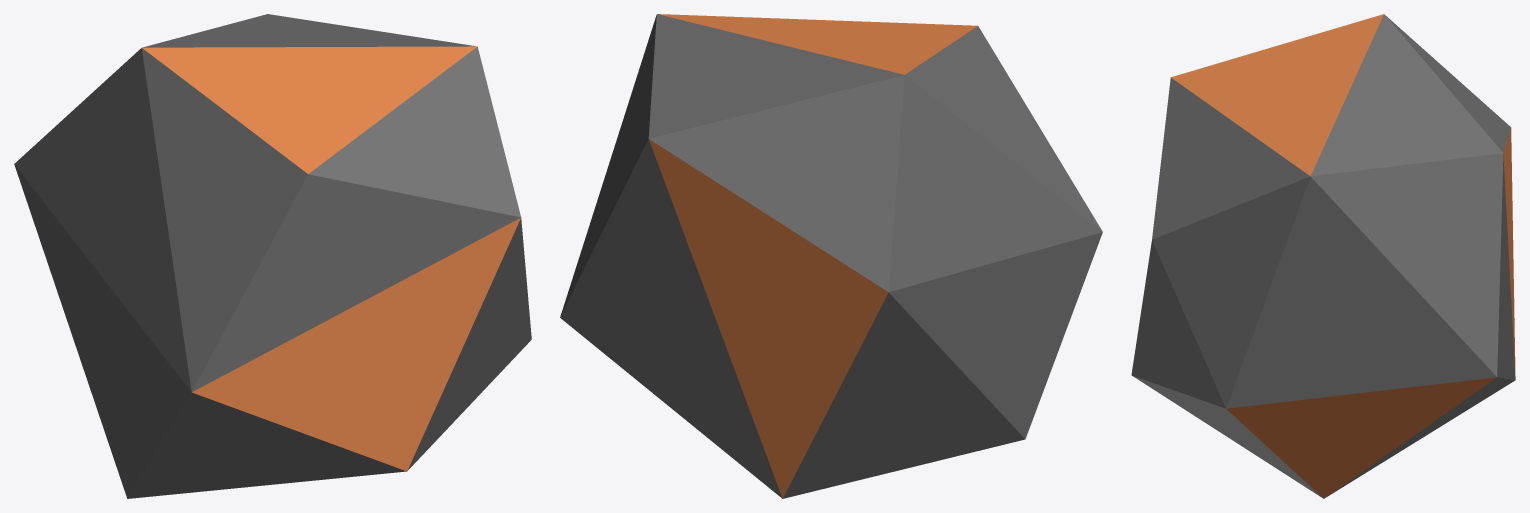
File: scrap_chunk.fbx
3 views of the same model, side by side, from view 1: azimuth 30°, elevation 25°; view 2: azimuth 150°, elevation 25°; view 3: azimuth 270°, elevation 25° (orthographic). The views are drawn at different scales.
Visible parts, largest first — view 1: Cube; view 2: Cube; view 3: Cube.
Part boxes in pixels (<box>): Cube: <box>14,14,531,498</box>; Cube: <box>560,14,1102,498</box>; Cube: <box>1131,14,1515,498</box>.
Size of the model in its own units: 84.21 by 93.07 by 84.11.
